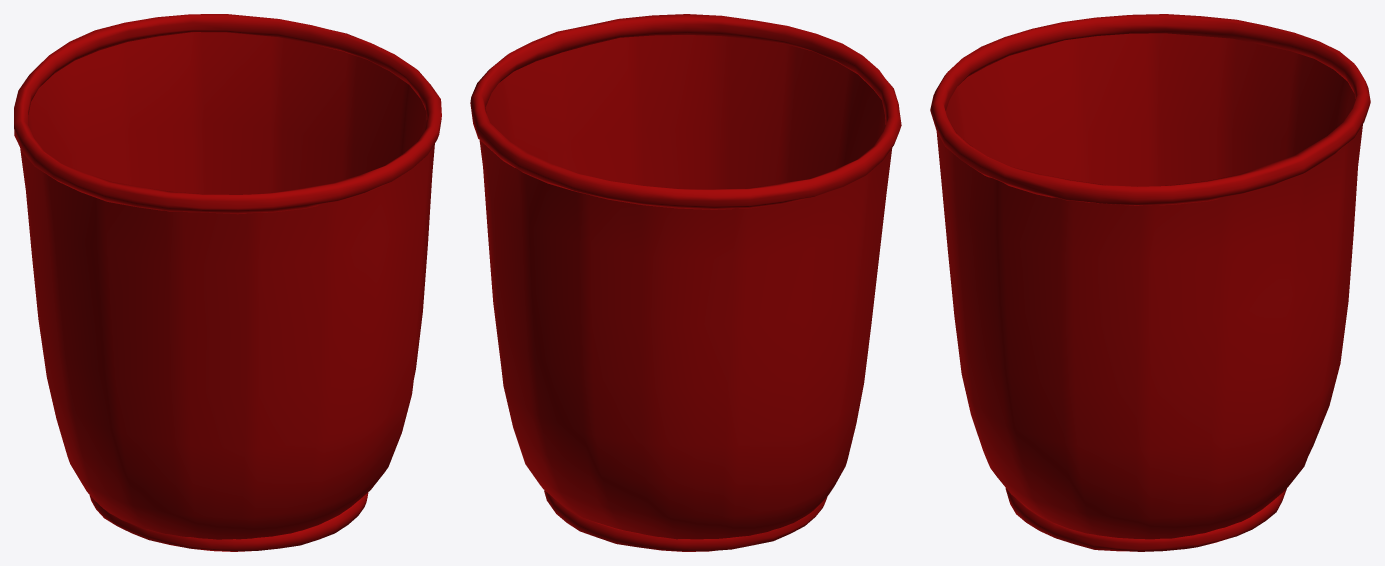
Rendered from SM_Busket_01.fbx.
3 renders of one model, left to right at view 1: azimuth 30°, elevation 25°; view 2: azimuth 150°, elevation 25°; view 3: azimuth 270°, elevation 25°, orthographic.
Visible parts, largest first — view 1: SM_Busket_01; view 2: SM_Busket_01; view 3: SM_Busket_01.
Boxes of the visible parts, <box> form: SM_Busket_01: <box>14,14,441,551</box>; SM_Busket_01: <box>470,14,901,551</box>; SM_Busket_01: <box>930,14,1370,551</box>.
Bounding box in the file's own units: 36.34 × 36.76 × 37.19.
